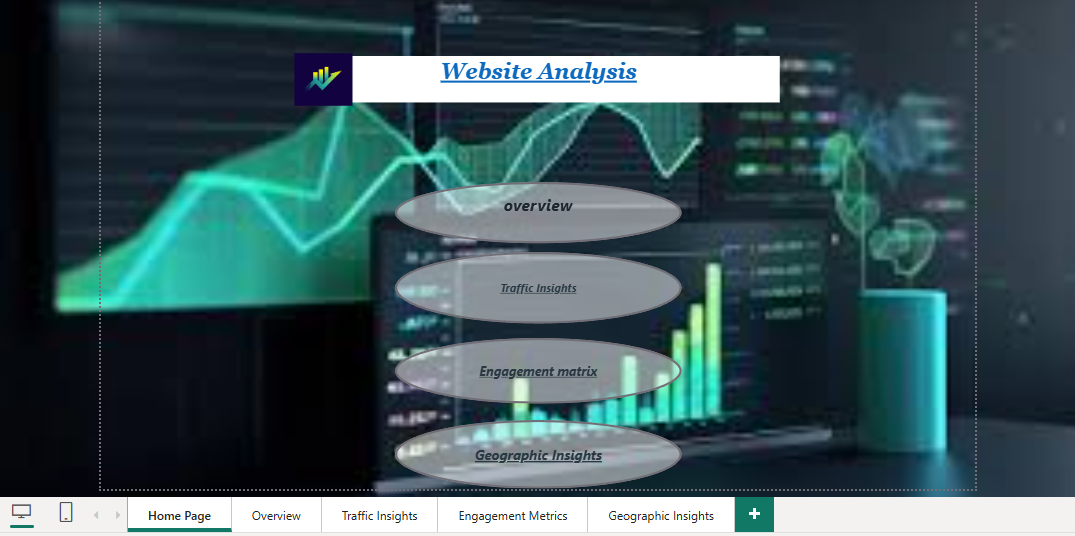

The dashboard page shown, as its layout file describes it:
{"tool":"powerbi","page":{"name":"Home Page","canvas":[1280,720],"ordinal":0},"visuals":[{"type":"textbox","box":[288.2,86.5,704.6,68.3],"z":0},{"type":"actionButton","box":[430.2,270.1,419.5,89.7],"z":1000},{"type":"actionButton","box":[430.2,373.6,419.5,104.6],"z":2000},{"type":"actionButton","box":[430.2,499.6,419.5,96.1],"z":3000},{"type":"actionButton","box":[430.2,619.2,419.5,100.4],"z":4000},{"type":"image","box":[277.6,72.6,95,95],"z":4001}]}

Visuals, with their boxes on the page's 1280x720 design canvas (x1, y1, x2, y2). These are canvas units, not pixel positions in the 1075x536 screenshot, which may show the page scaled, cropped or inside an application window:
textbox: <box>288,86,993,155</box>
actionButton: <box>430,270,850,360</box>
actionButton: <box>430,374,850,478</box>
actionButton: <box>430,500,850,596</box>
actionButton: <box>430,619,850,720</box>
image: <box>278,73,373,168</box>
